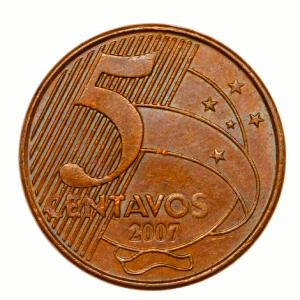5 cent: (18, 22, 286, 290)
